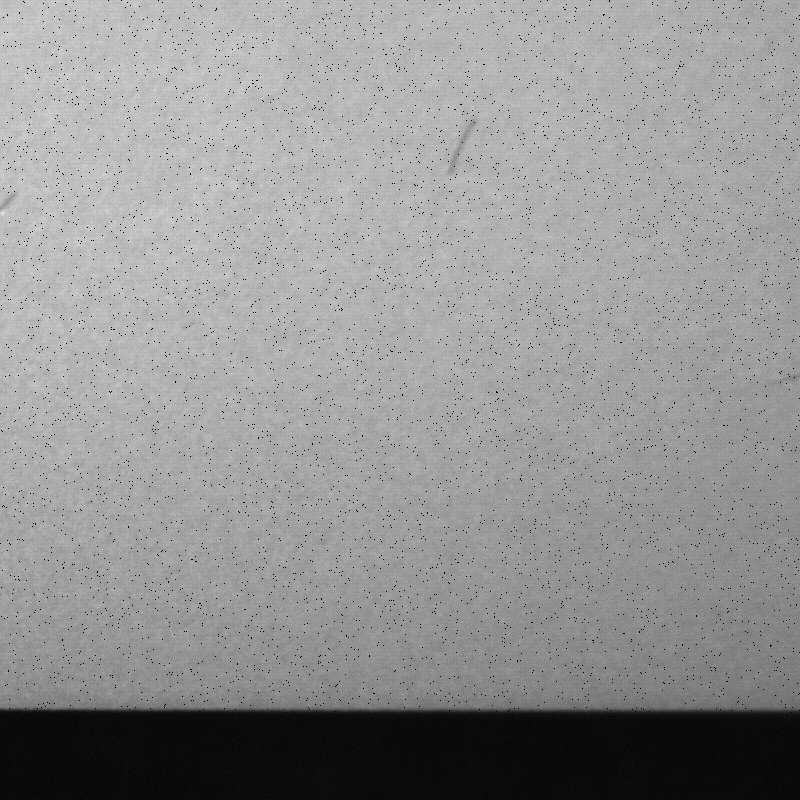car: (448, 117, 481, 180)
defect: (1, 187, 21, 215)
